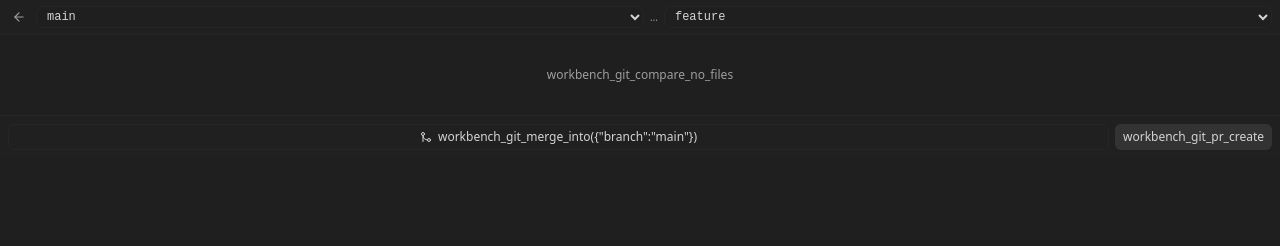
CompareView › merge com conflito mostra os arquivos em conflito e permite resolver ours/theirs
This screenshot has width=1280, height=246.
Click the button "workbench_git_merge_into({\"branch\":\"main\"})".
click(558, 137)  # box x1=8 y1=124 x2=1109 y2=150
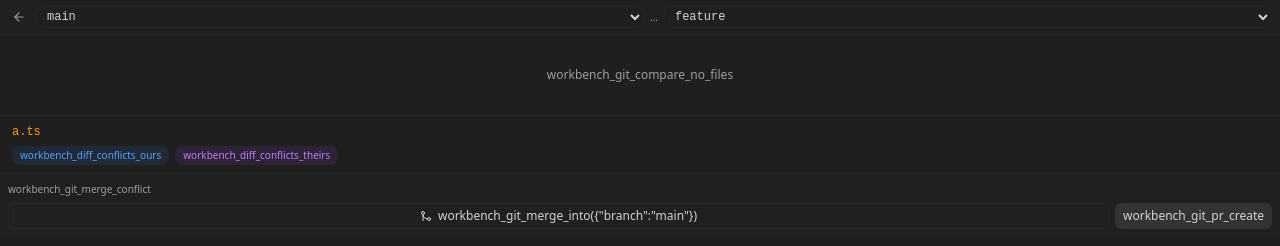
Check: the button "workbench_diff_conflicts_ours" is shown
Check: the text "a.ts" is shown, box x1=12 y1=125 x2=41 y2=139
Click the button "workbench_diff_conflicts_ours".
click(91, 156)  # box x1=12 y1=146 x2=169 y2=165
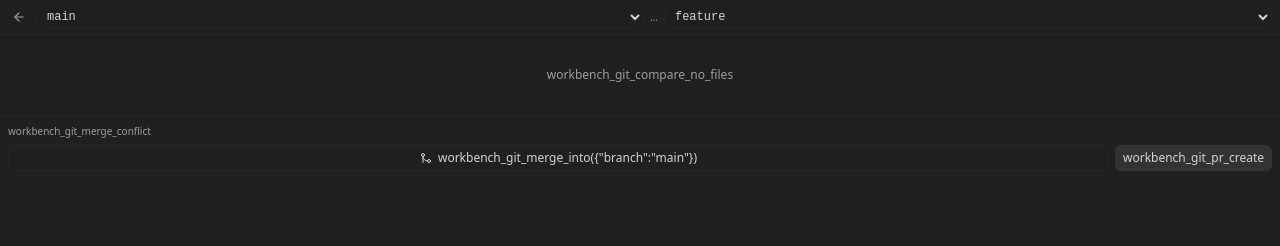
Check: the text "a.ts" is gone
